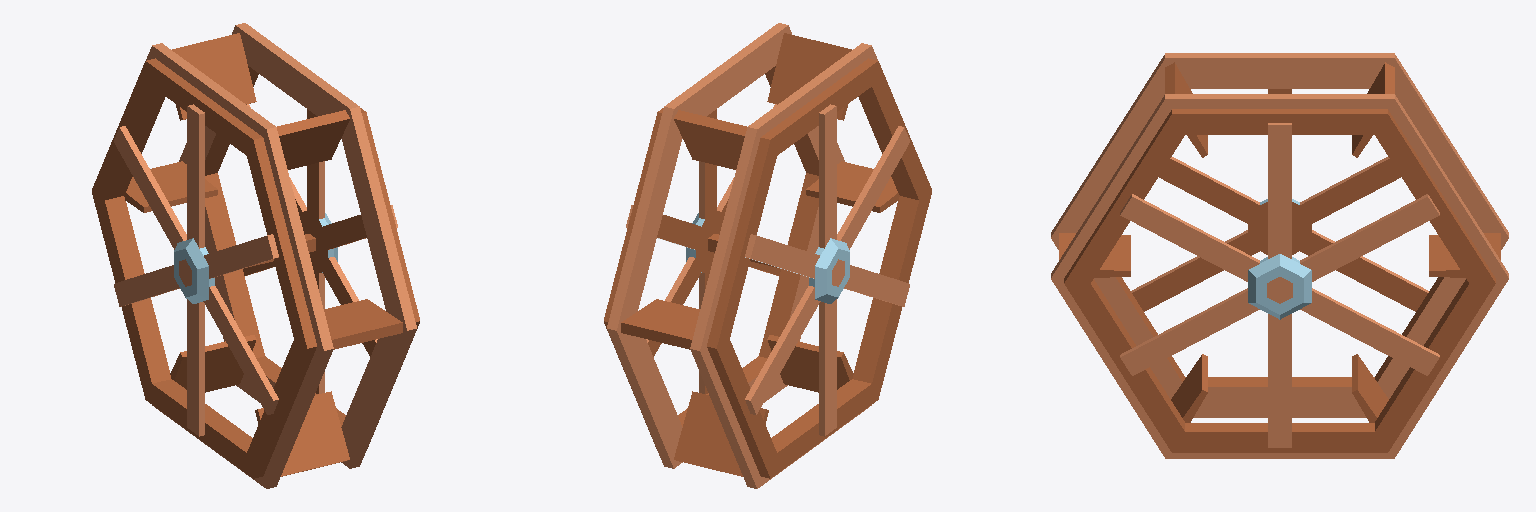
File: watermill.obj
The picture shows the model from 3 angles: view 1: azimuth 30°, elevation 25°; view 2: azimuth 150°, elevation 25°; view 3: azimuth 270°, elevation 25°; orthographic projection.
Visible parts, largest first — view 1: watermill, paddle; view 2: watermill, paddle; view 3: watermill, paddle.
Part boxes in pixels (x1,y1,x2,y2): watermill: (92, 23, 419, 488); paddle: (124, 33, 402, 476); watermill: (604, 23, 931, 488); paddle: (621, 33, 899, 476); watermill: (1051, 53, 1508, 458); paddle: (1059, 62, 1500, 422).
Bounding box in the file's own units: 0.71 × 1.73 × 2.